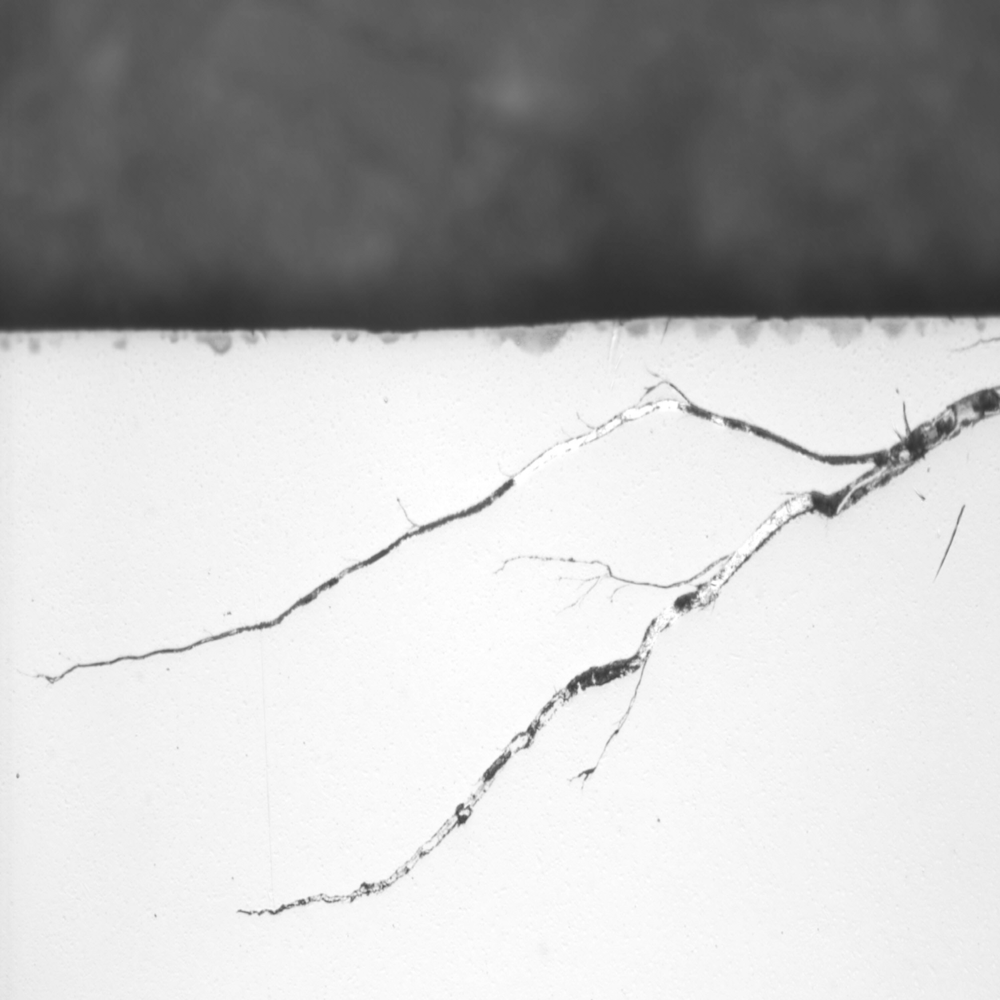crack: (39, 365, 1000, 940)
